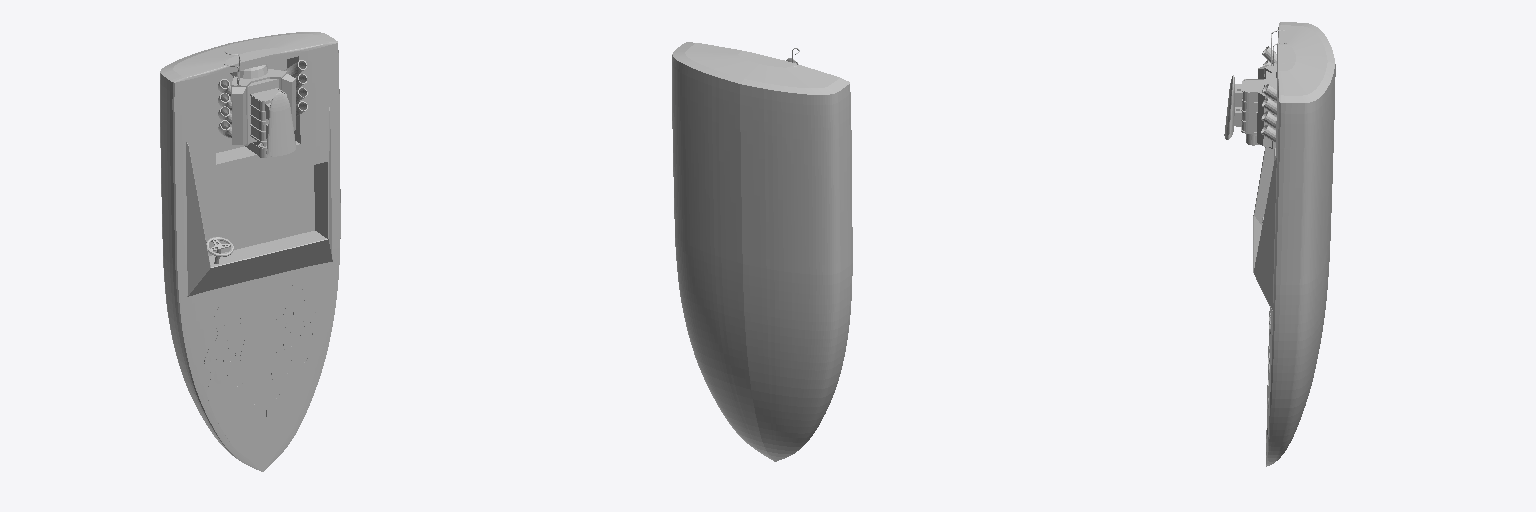
Rendered from spd_boat2.obj.
3 renders of one model, left to right at view 1: azimuth 30°, elevation 25°; view 2: azimuth 150°, elevation 25°; view 3: azimuth 270°, elevation 25°, orthographic.
Parts seen in each view (by area): view 1: HULL1, WINDSHIELD, ENGINE, CARB_SCOOP, BLOWER; view 2: HULL1; view 3: HULL1, WINDSHIELD, ENGINE, BLOWER, CARB_SCOOP.
Boxes of the visible parts, box(x1,y1,x2,y2) form: HULL1: box(160, 32, 340, 471); WINDSHIELD: box(186, 107, 332, 296); ENGINE: box(218, 60, 307, 145); CARB_SCOOP: box(265, 92, 295, 156); BLOWER: box(250, 88, 286, 143); HULL1: box(672, 42, 852, 461); HULL1: box(1266, 22, 1335, 466); WINDSHIELD: box(1253, 147, 1276, 311); ENGINE: box(1257, 46, 1276, 148); BLOWER: box(1241, 79, 1265, 134); CARB_SCOOP: box(1224, 75, 1242, 139).
Size of the model in its own units: 745 by 1791 by 427.